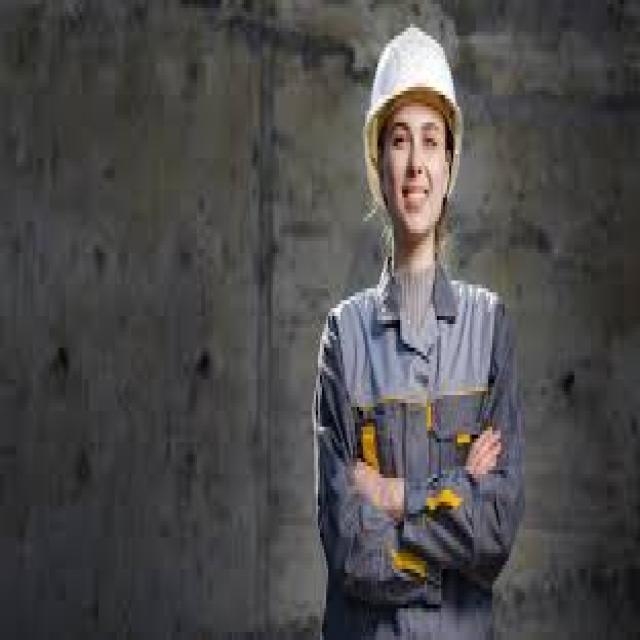Reflective-Jacket: (312, 280, 527, 600)
Safety-Helmet: (361, 24, 468, 142)
